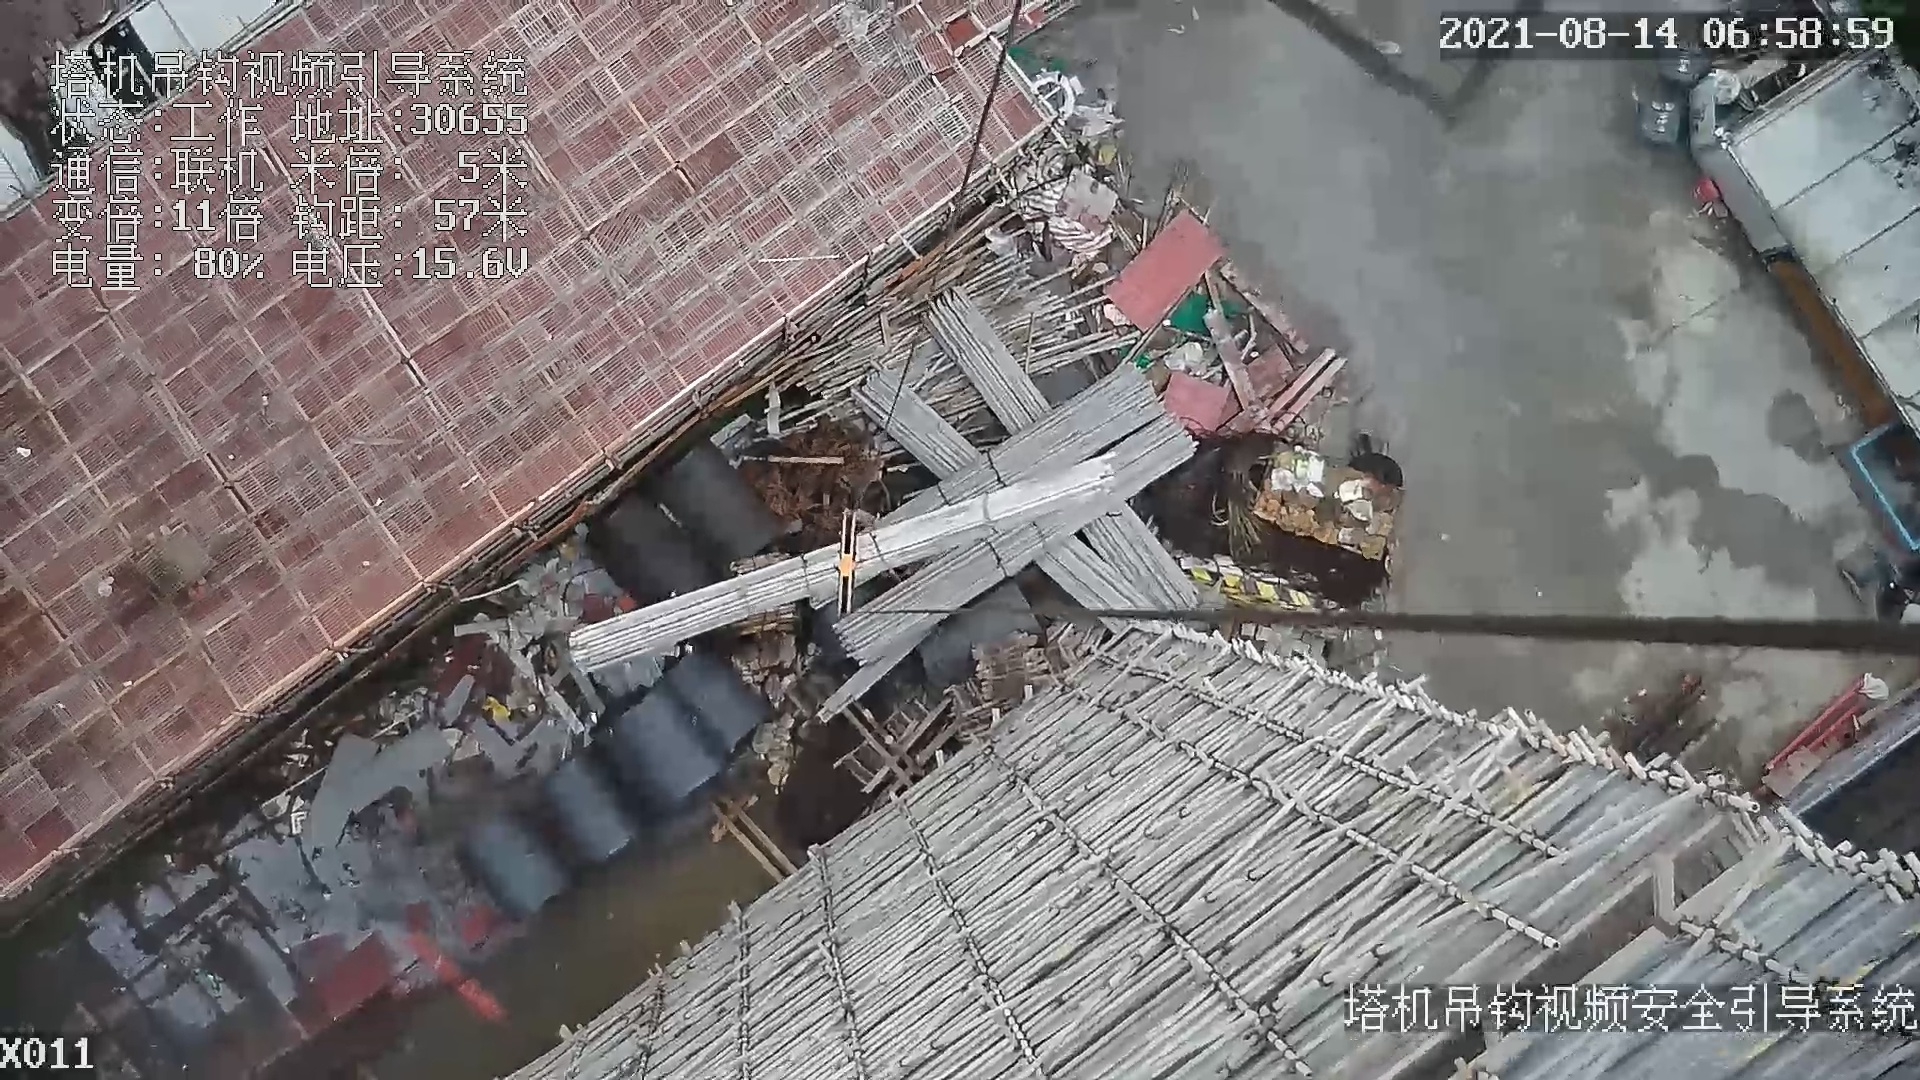hook: (827, 505, 862, 618)
rebar: (566, 464, 1116, 665), (928, 284, 1196, 620), (832, 418, 1197, 657), (847, 369, 1162, 629), (869, 365, 1159, 535)
